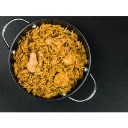briyani: (20, 28, 83, 89)
